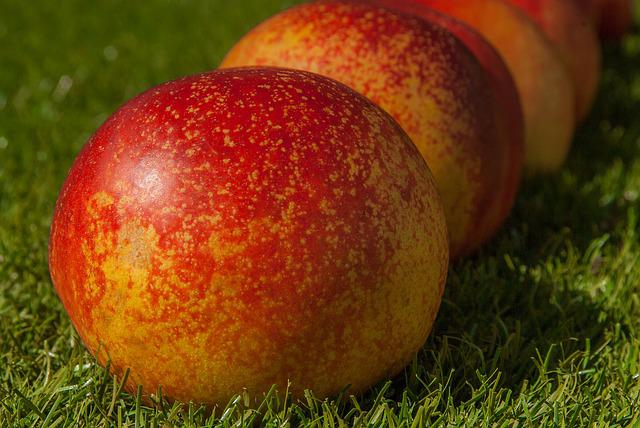peach: (48, 68, 450, 406)
